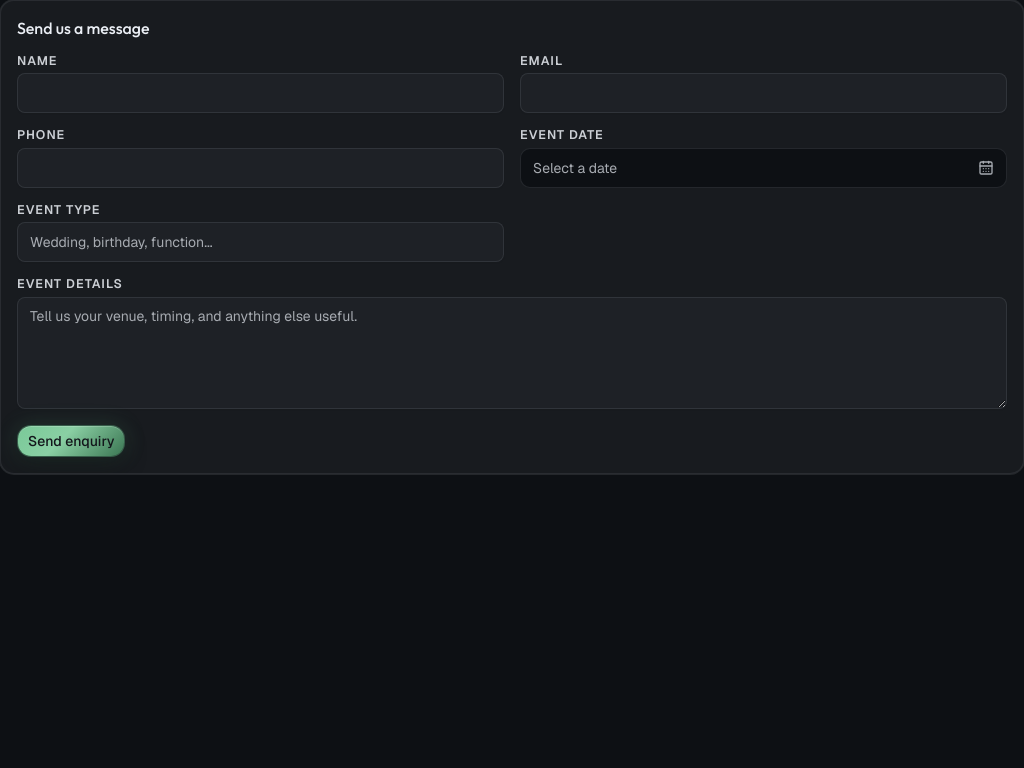
Scenario: EnquiryForm › validates required fields before submitting
Click the button "Send enquiry". click: coordinates (71, 441)
box: [17, 425, 125, 457]
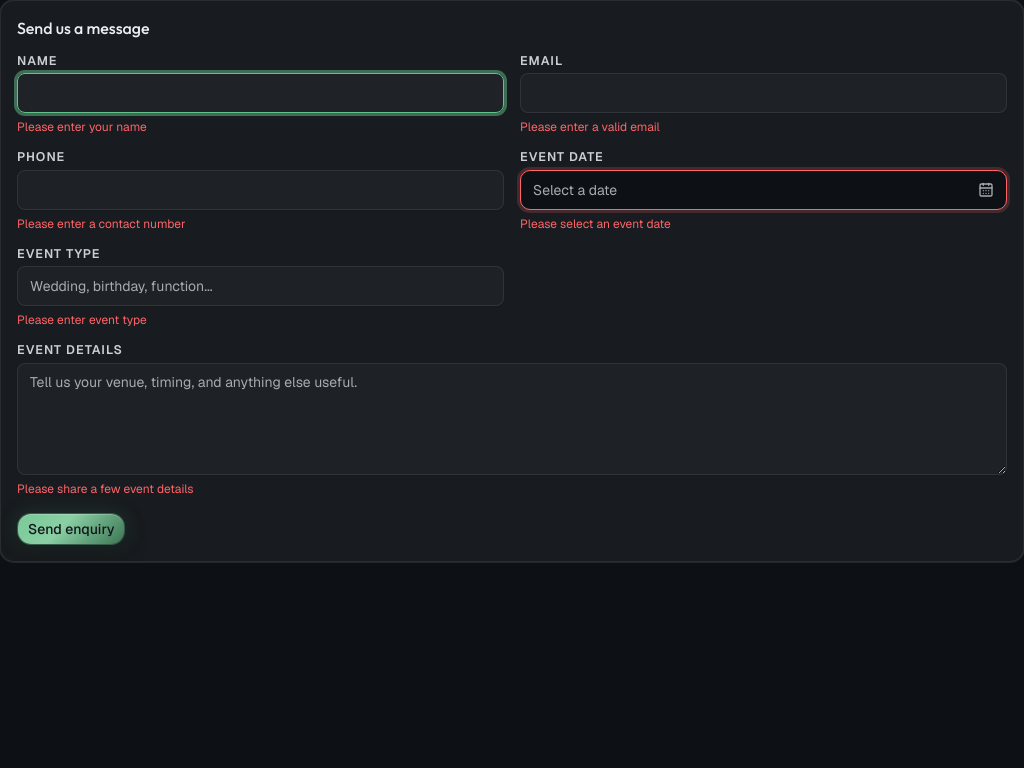
Expected: the text "Please enter your name" is shown, [17, 120, 147, 136]
Expected: the text "Please select an event date" is shown, [520, 216, 671, 232]
